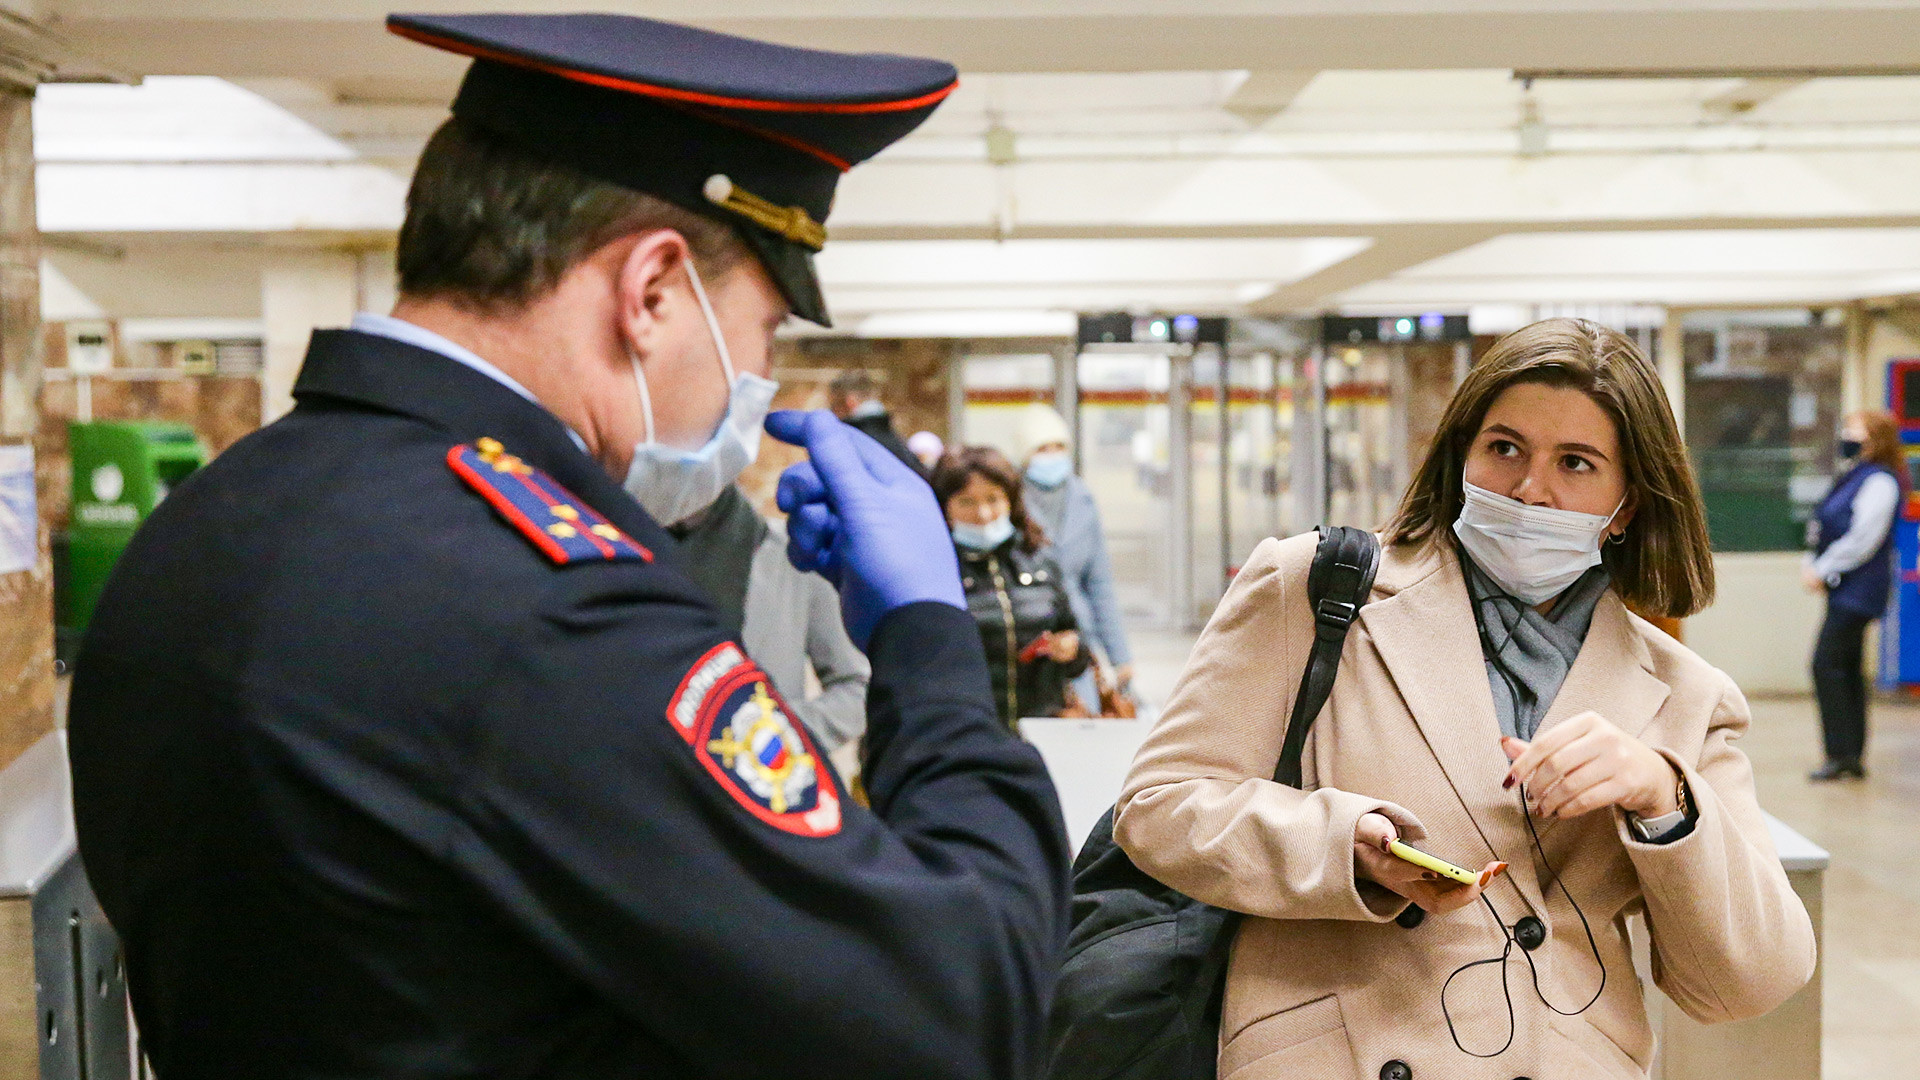with_incorrect_mask: (1475, 409, 1607, 583)
with_mask: (656, 223, 778, 551)
